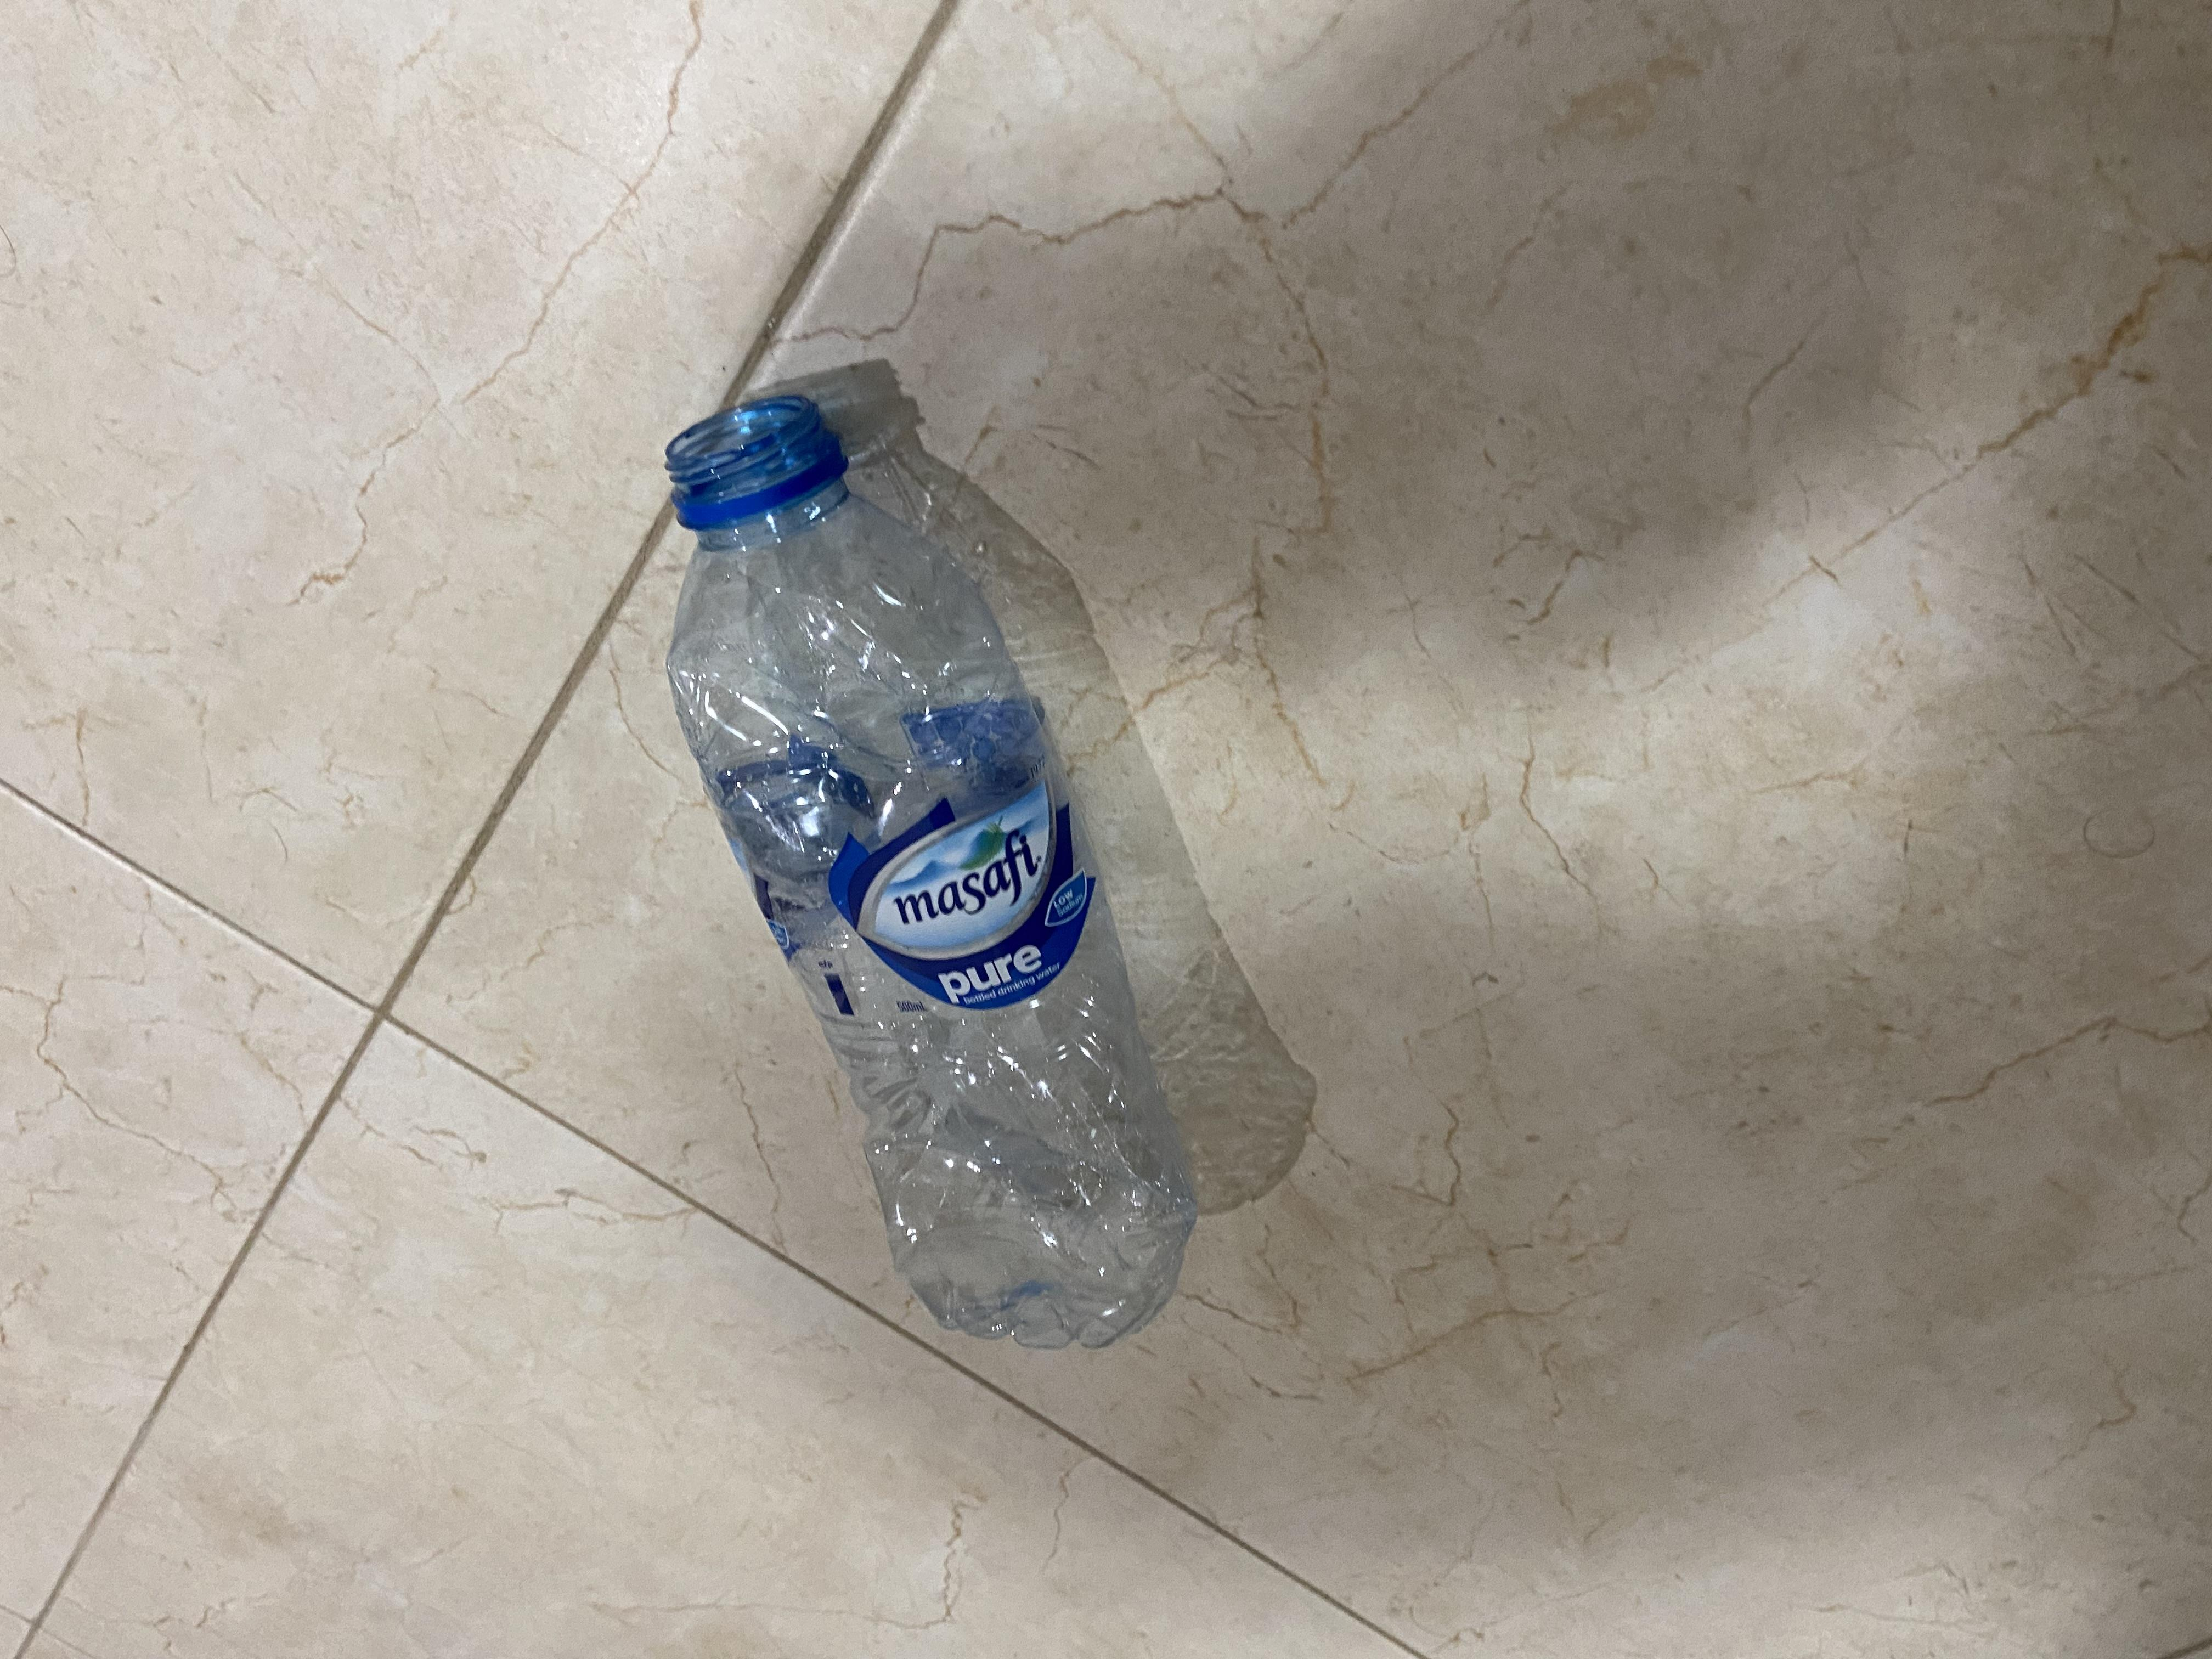bottle: (341, 477, 1759, 938)
